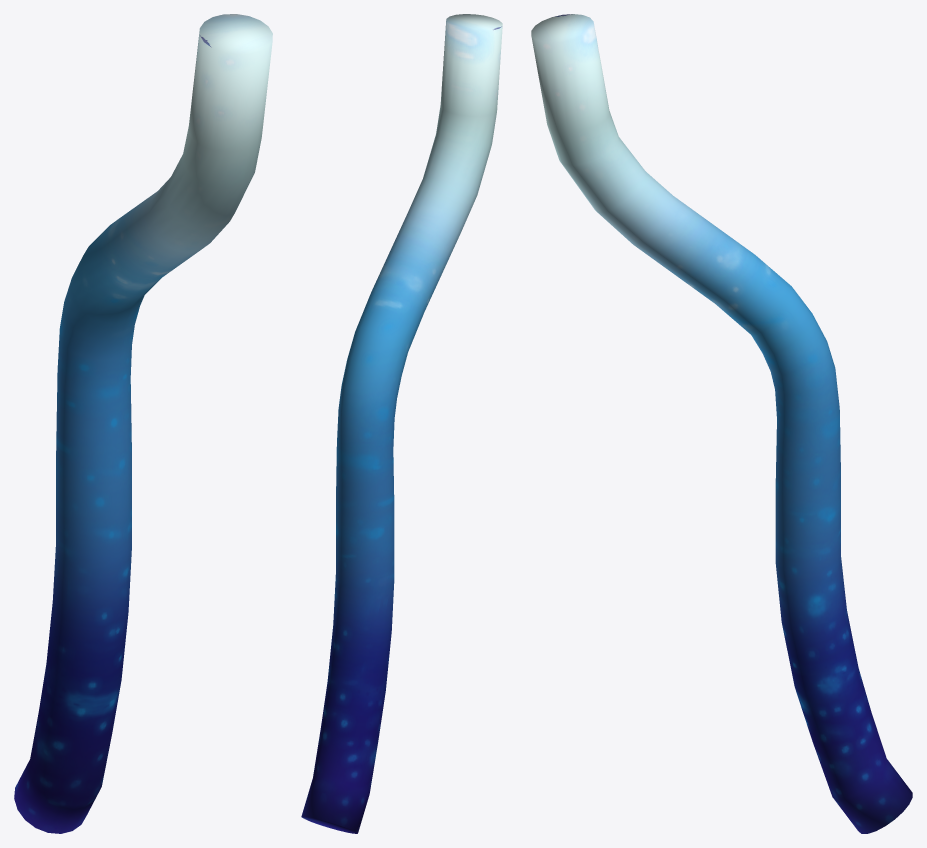
File: blueliquid.fbx
3 renders of one model, left to right at view 1: azimuth 30°, elevation 25°; view 2: azimuth 150°, elevation 25°; view 3: azimuth 270°, elevation 25°, orthographic. The views are drawn at different scales.
Parts seen in each view (by area): view 1: liquid; view 2: liquid; view 3: liquid.
Boxes of the visible parts, bbox=[...] form: liquid: bbox=[14, 14, 272, 833]; liquid: bbox=[301, 14, 502, 833]; liquid: bbox=[531, 14, 912, 833].
Bounding box in the file's own units: 9.95 × 129 × 55.23.
Materials: 1 (1 with a texture image).
